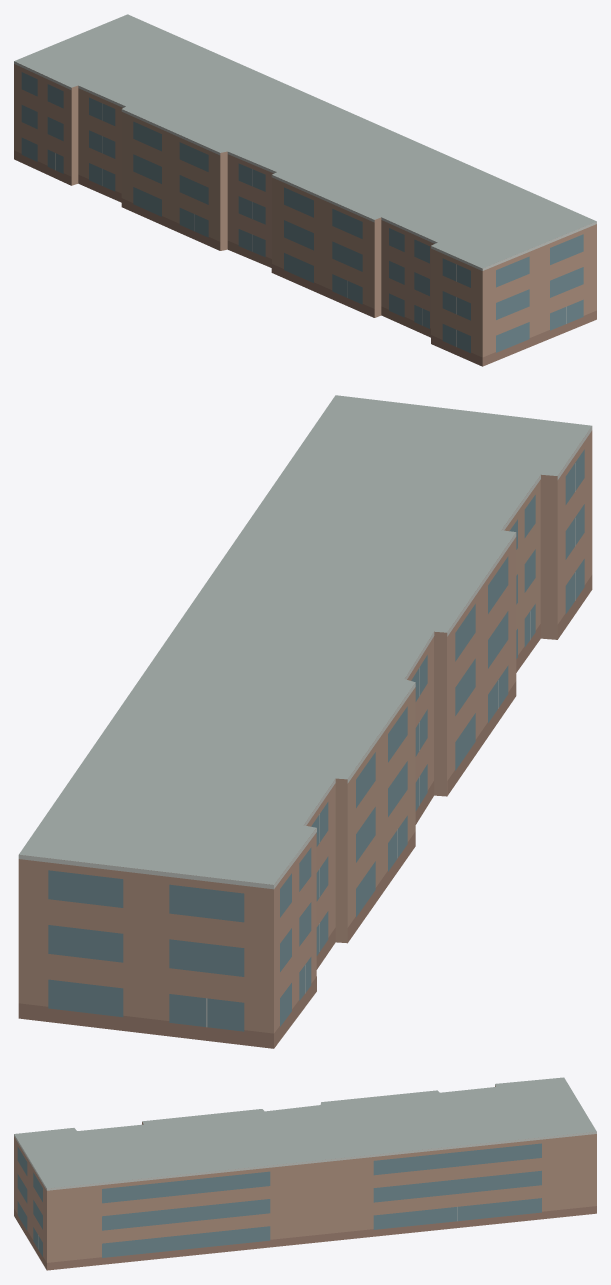
The model's file is survey-upis-32470408.glb.
3 views of the same model, one above another, from view 1: azimuth 30°, elevation 25°; view 2: azimuth 150°, elevation 25°; view 3: azimuth 270°, elevation 25° (orthographic). The views are drawn at different scales.
Visible parts, largest first — view 1: survey-upis-32470408.tmp; view 2: survey-upis-32470408.tmp; view 3: survey-upis-32470408.tmp.
Part boxes in pixels (bbox=[...]): survey-upis-32470408.tmp: bbox=[14, 14, 596, 366]; survey-upis-32470408.tmp: bbox=[18, 395, 592, 1048]; survey-upis-32470408.tmp: bbox=[14, 1077, 596, 1270].
Size of the model in its own units: 26.64 by 9.15 by 59.02.
